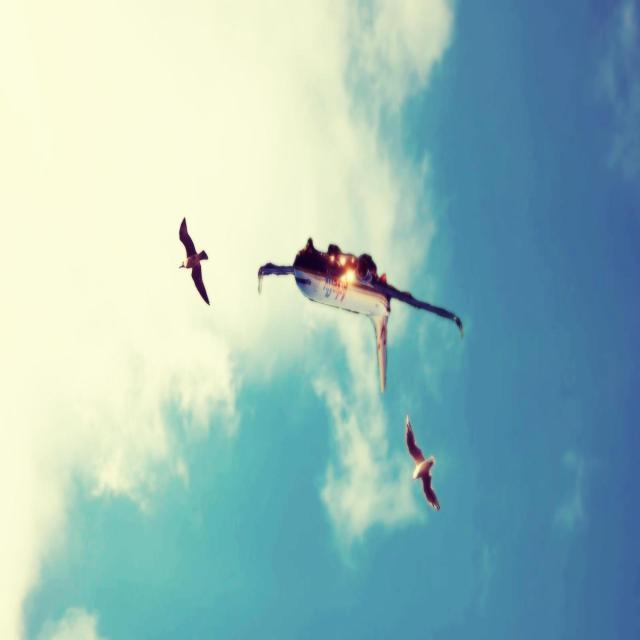airplane: (257, 236, 463, 393)
